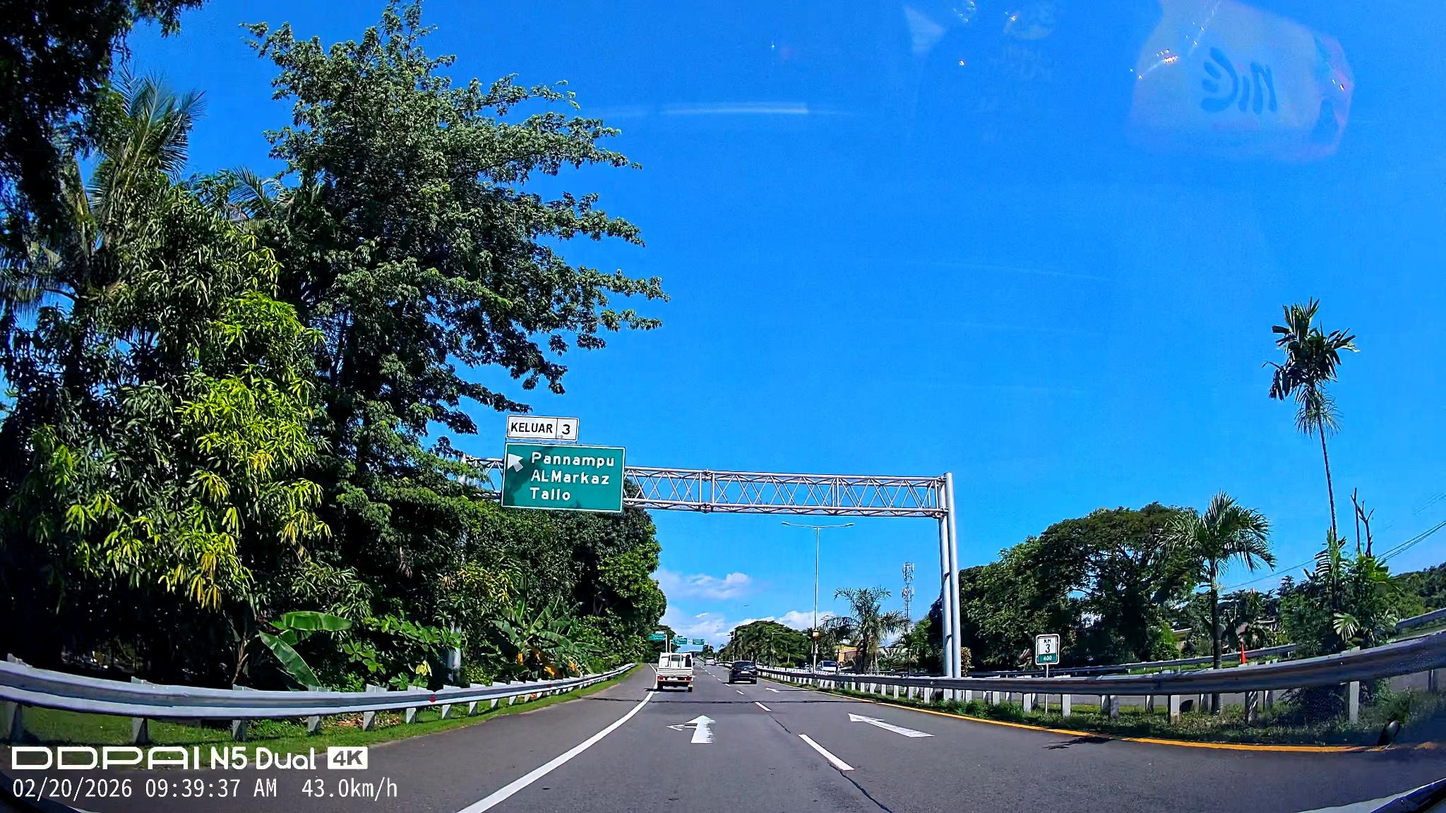rambu_teks: (502, 442, 625, 513)
